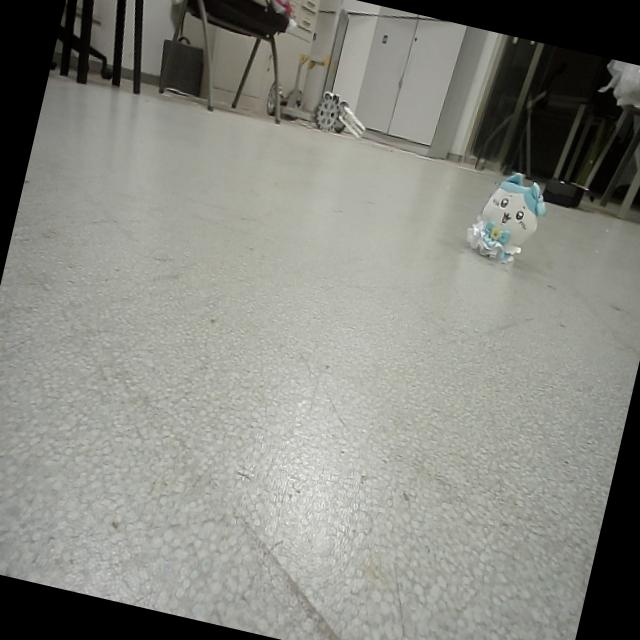xiaoba: (460, 163, 556, 275)
